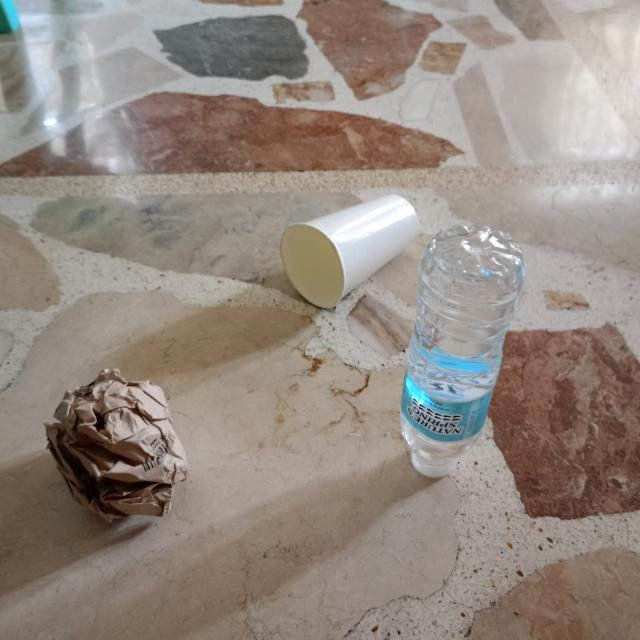recyclable waste: (391, 216, 535, 487), (35, 363, 201, 534), (276, 184, 426, 314)
